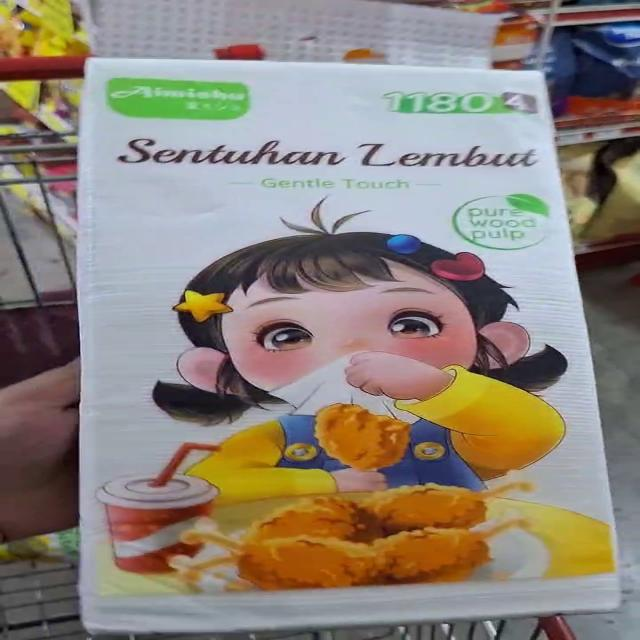Tisu: (74, 307, 640, 640), (67, 0, 603, 312)
